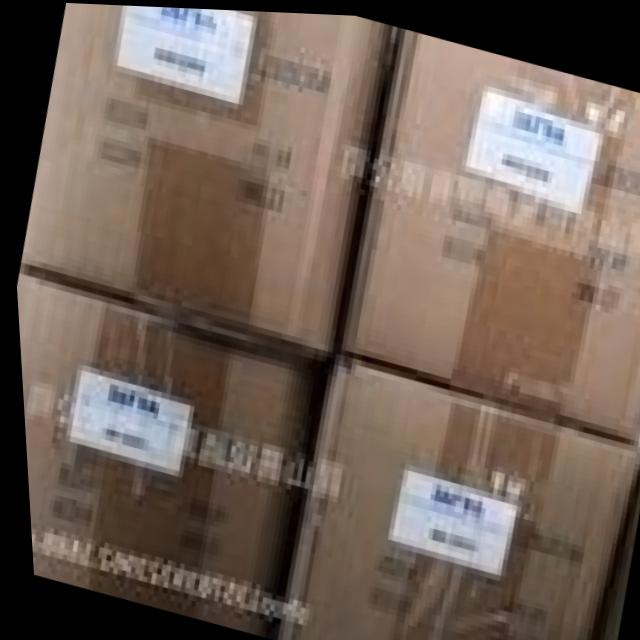box: (21, 2, 395, 359), (335, 23, 640, 435), (14, 263, 321, 632), (266, 345, 636, 640), (587, 442, 640, 640)
